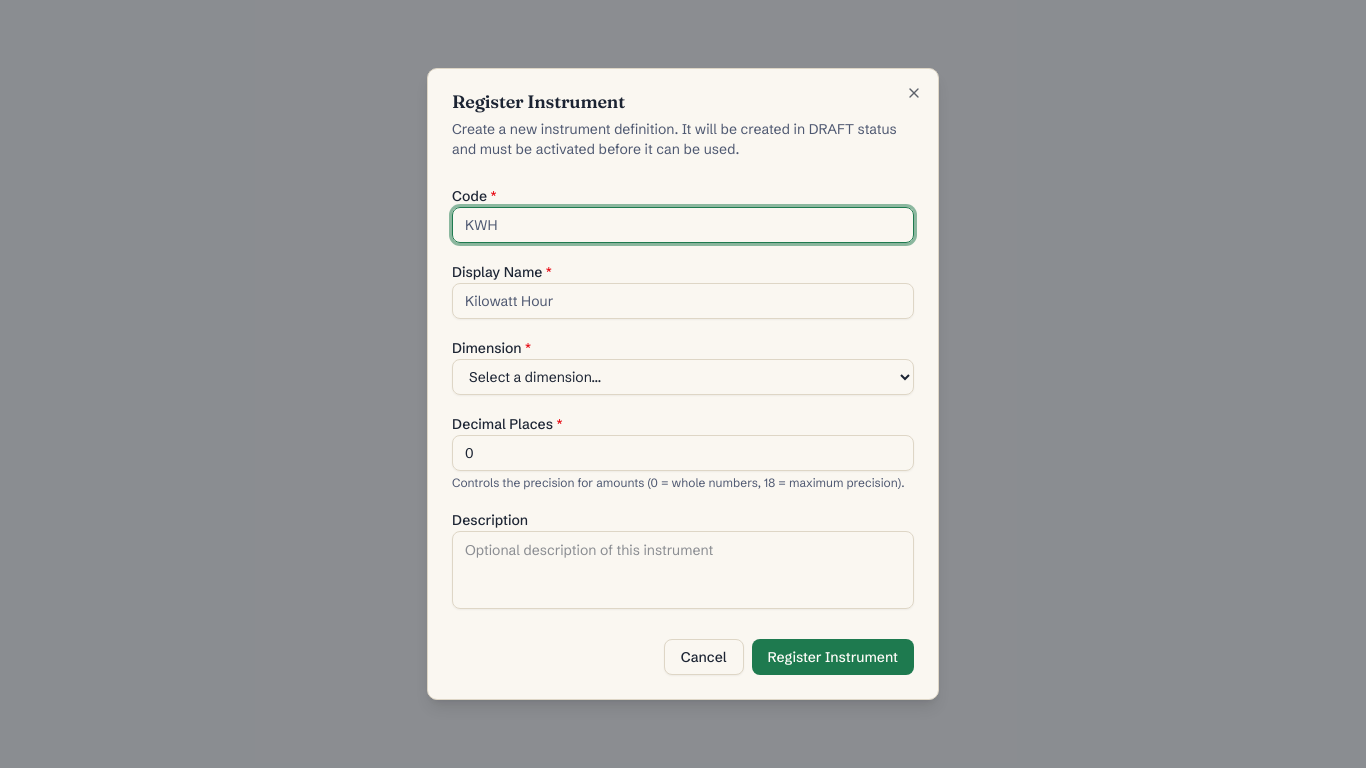
Test: RegisterInstrumentDialog › validates code is required on submit
Step 1. Click the button "Register Instrument" → (833, 657), box [752, 639, 914, 675]
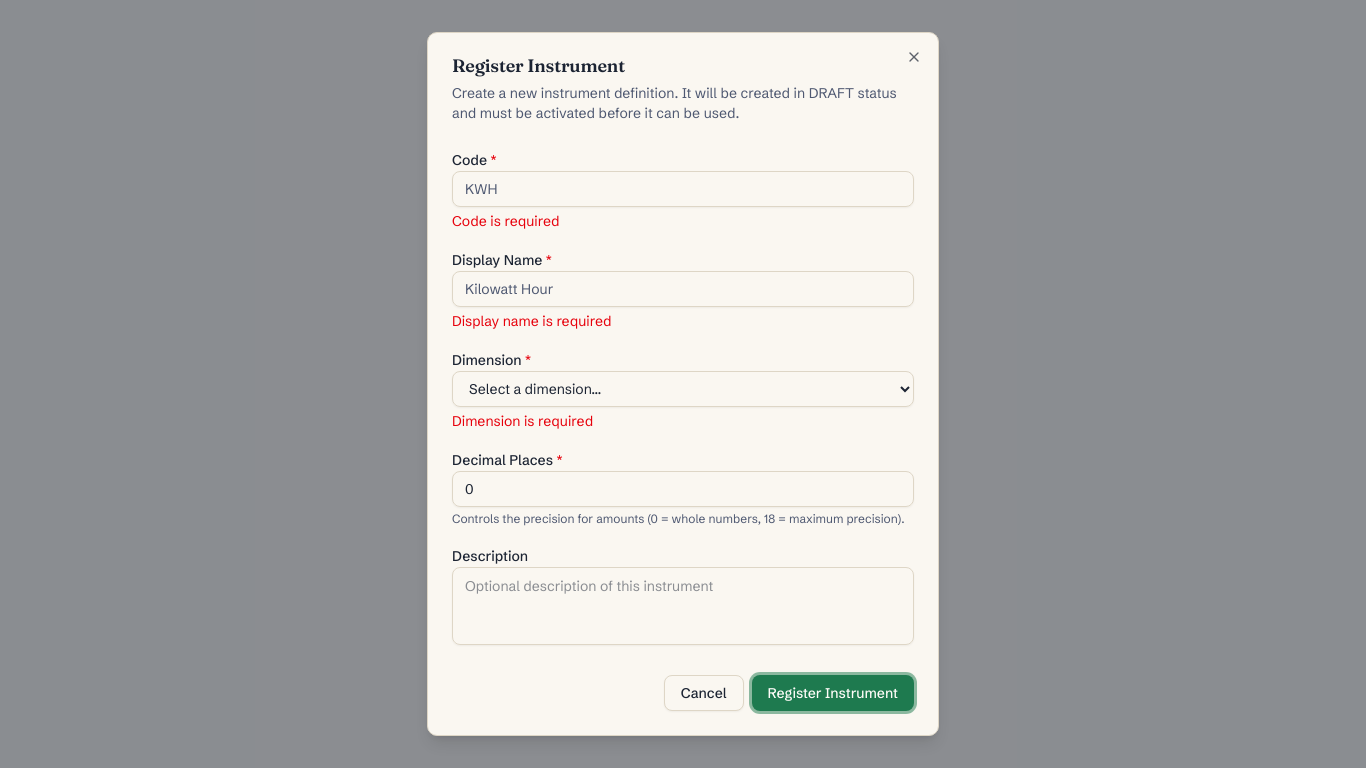
expect the text "Code is required" is shown: met, box [452, 212, 560, 230]
